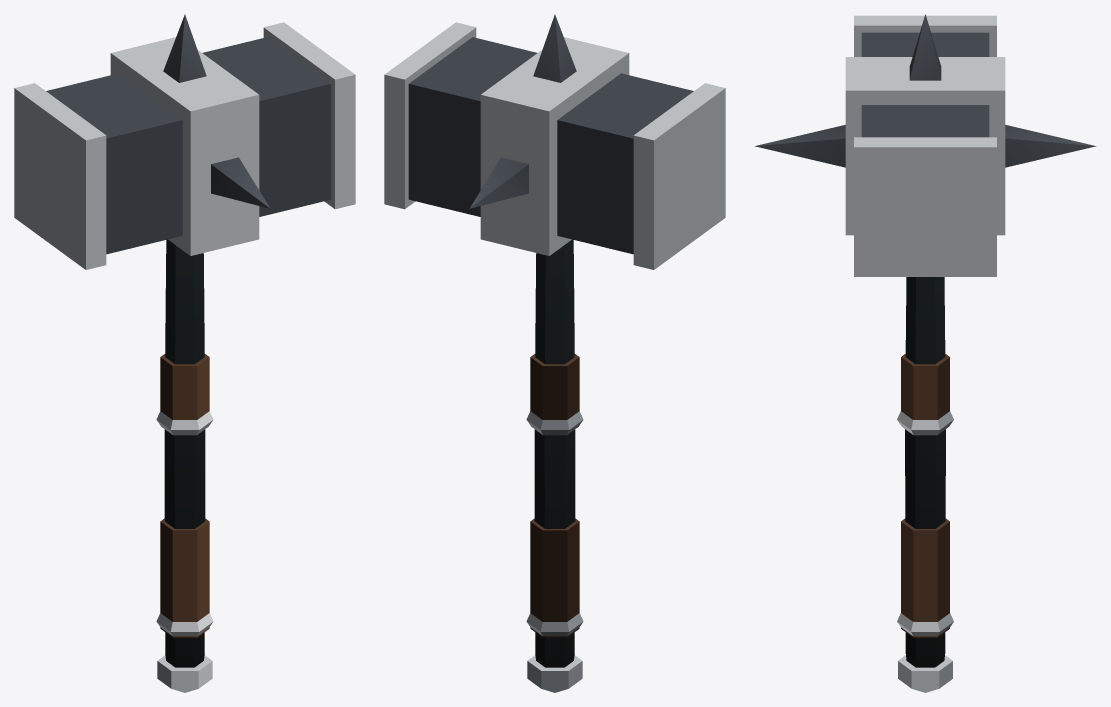
File: barb_maul_2.gltf
3 views of the same model, side by side, from view 1: azimuth 30°, elevation 25°; view 2: azimuth 150°, elevation 25°; view 3: azimuth 270°, elevation 25° (orthographic).
Parts seen in each view (by area): view 1: barb_maul_2; view 2: barb_maul_2; view 3: barb_maul_2.
Boxes of the visible parts, x1=… form: barb_maul_2: x1=14, y1=14, x2=355, y2=692; barb_maul_2: x1=384, y1=14, x2=725, y2=692; barb_maul_2: x1=754, y1=14, x2=1096, y2=692.
Bounding box in the file's own units: 0.7896 × 1.9 × 0.8688.
Materials: 1 (1 with a texture image).
